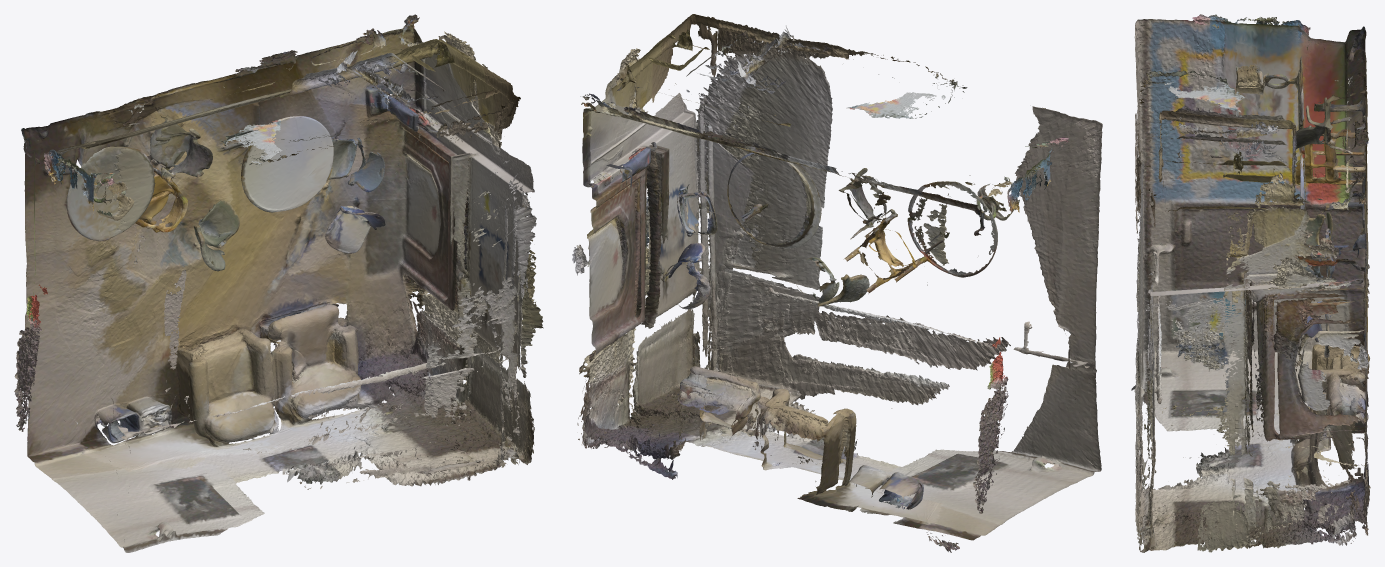
The picture shows the model from 3 angles, left to right: view 1: azimuth 30°, elevation 25°; view 2: azimuth 150°, elevation 25°; view 3: azimuth 270°, elevation 25°; orthographic projection. The views are drawn at different scales.
Parts seen in each view (by area): view 1: world; view 2: world; view 3: world.
Boxes of the visible parts, bbox=[...] form: world: bbox=[14, 14, 543, 552]; world: bbox=[572, 14, 1102, 552]; world: bbox=[1131, 14, 1370, 552].
Size of the model in its own units: 5.17 by 4.59 by 2.57.
